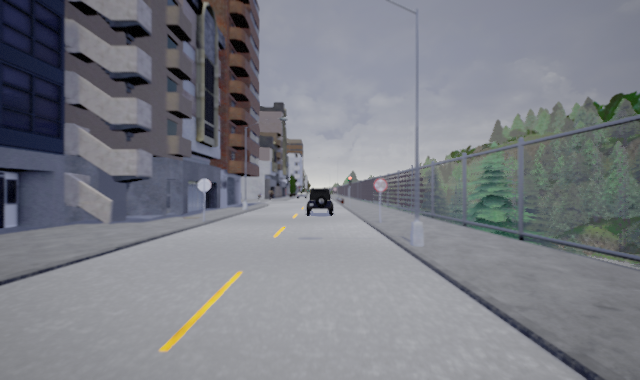vehicle: (306, 187, 334, 215)
